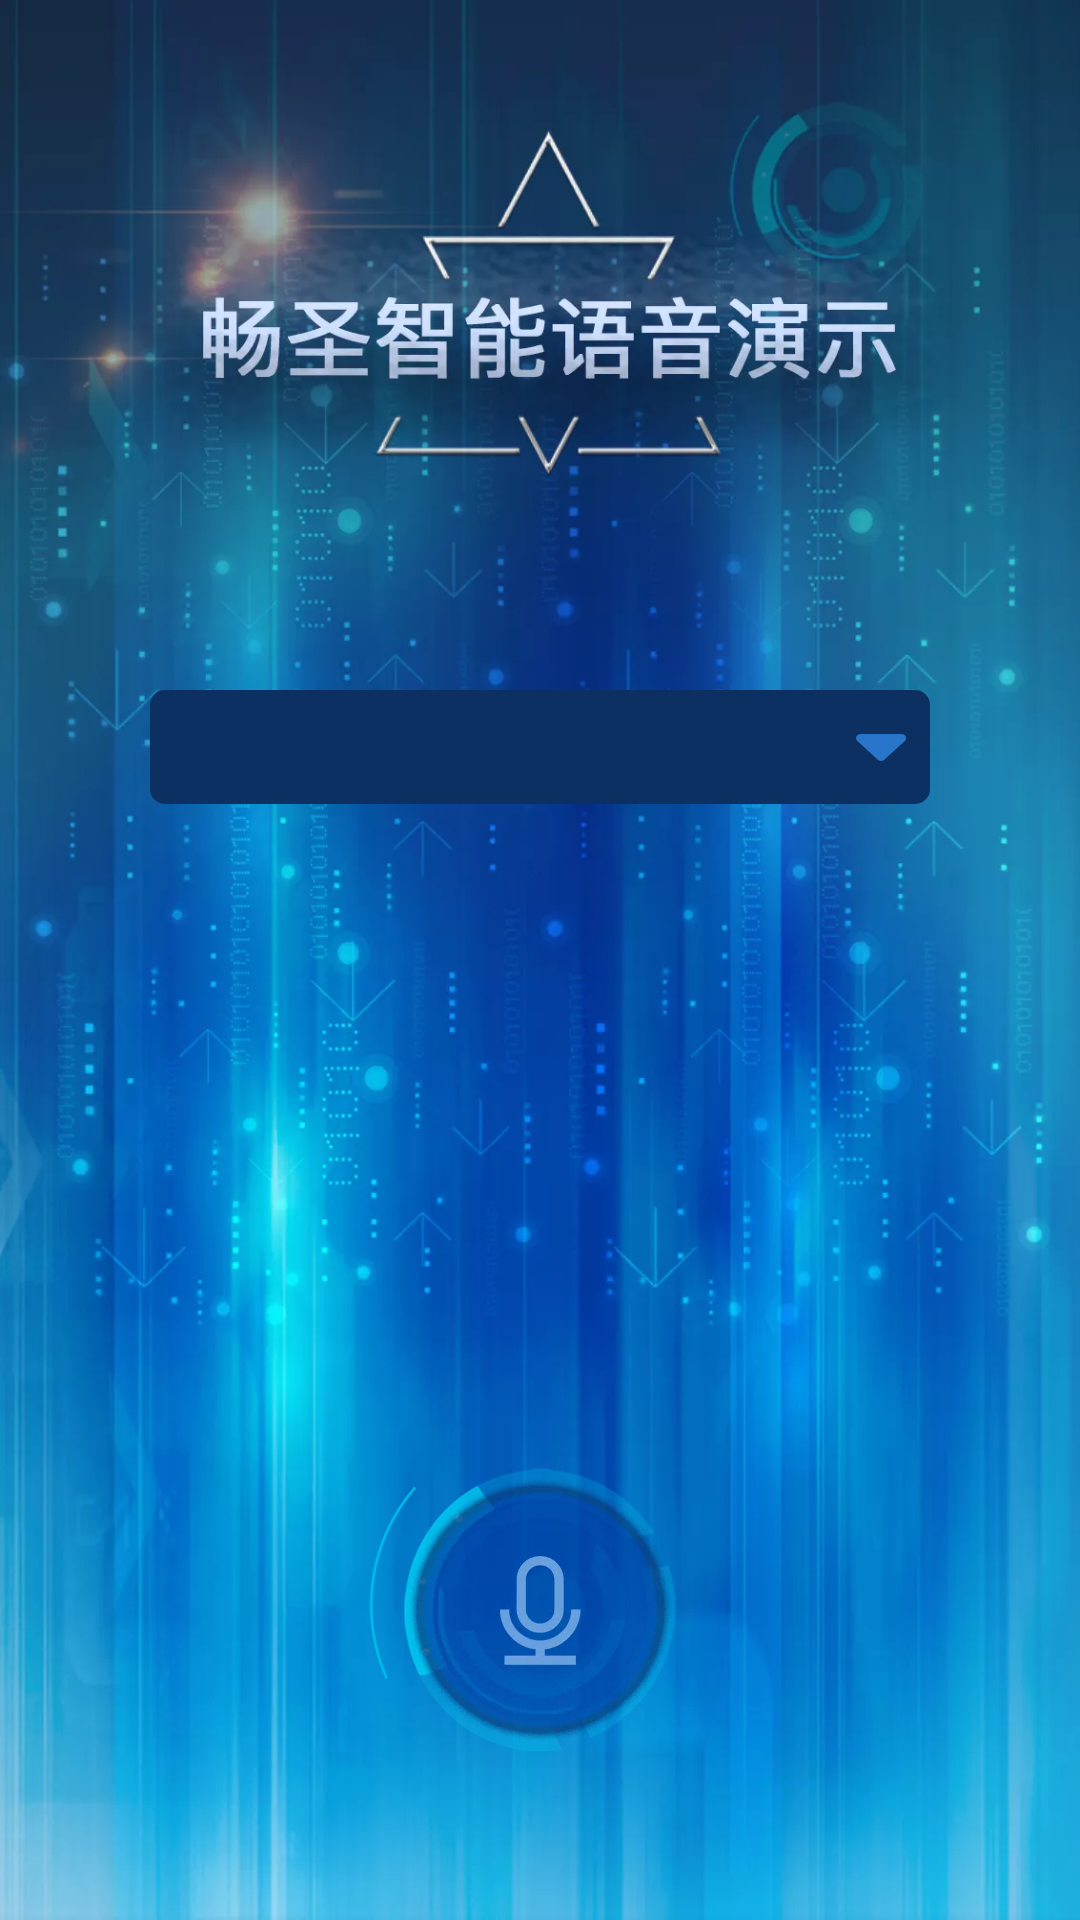

Locate icon controls on the screen. Image size 1080px×1920px, boxes as {"x1": x1, "y1": y1, "x2": x2, "y2": y2}.
arrow down: {"x1": 856, "y1": 734, "x2": 906, "y2": 761}
